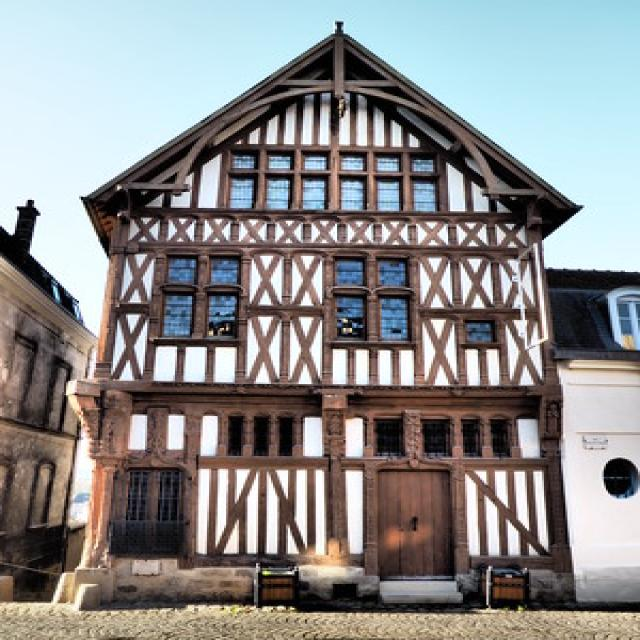building: (54, 18, 590, 617)
